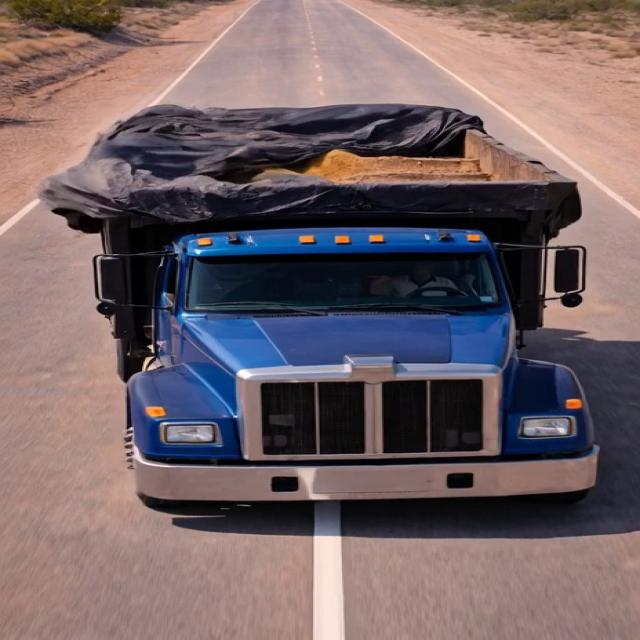Box: (53, 96, 588, 211)
Truck: (38, 53, 613, 504)
